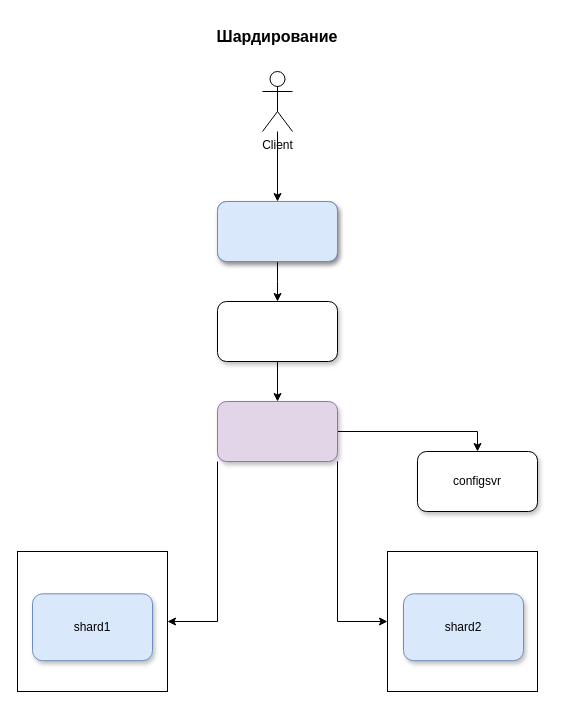
The diagram is 561 pixels wide and 709 high, and some of its shapes have lost their labels. The centre of each missing label's shape, as x and y in pixels:
"API Gateway" goes at (x=278, y=232).
"mongos" goes at (x=278, y=432).
"pymongo-api" goes at (x=278, y=332).
